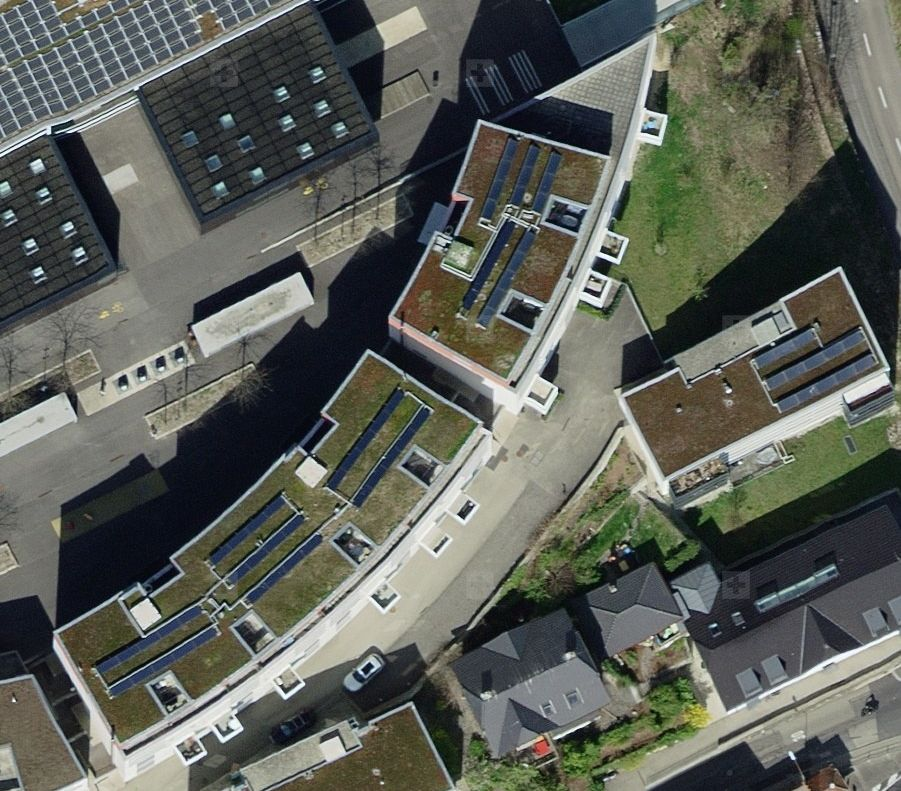solar: (1, 1, 274, 142), (462, 128, 564, 338), (317, 377, 436, 519), (199, 484, 326, 610), (740, 319, 885, 418), (88, 598, 227, 701)
